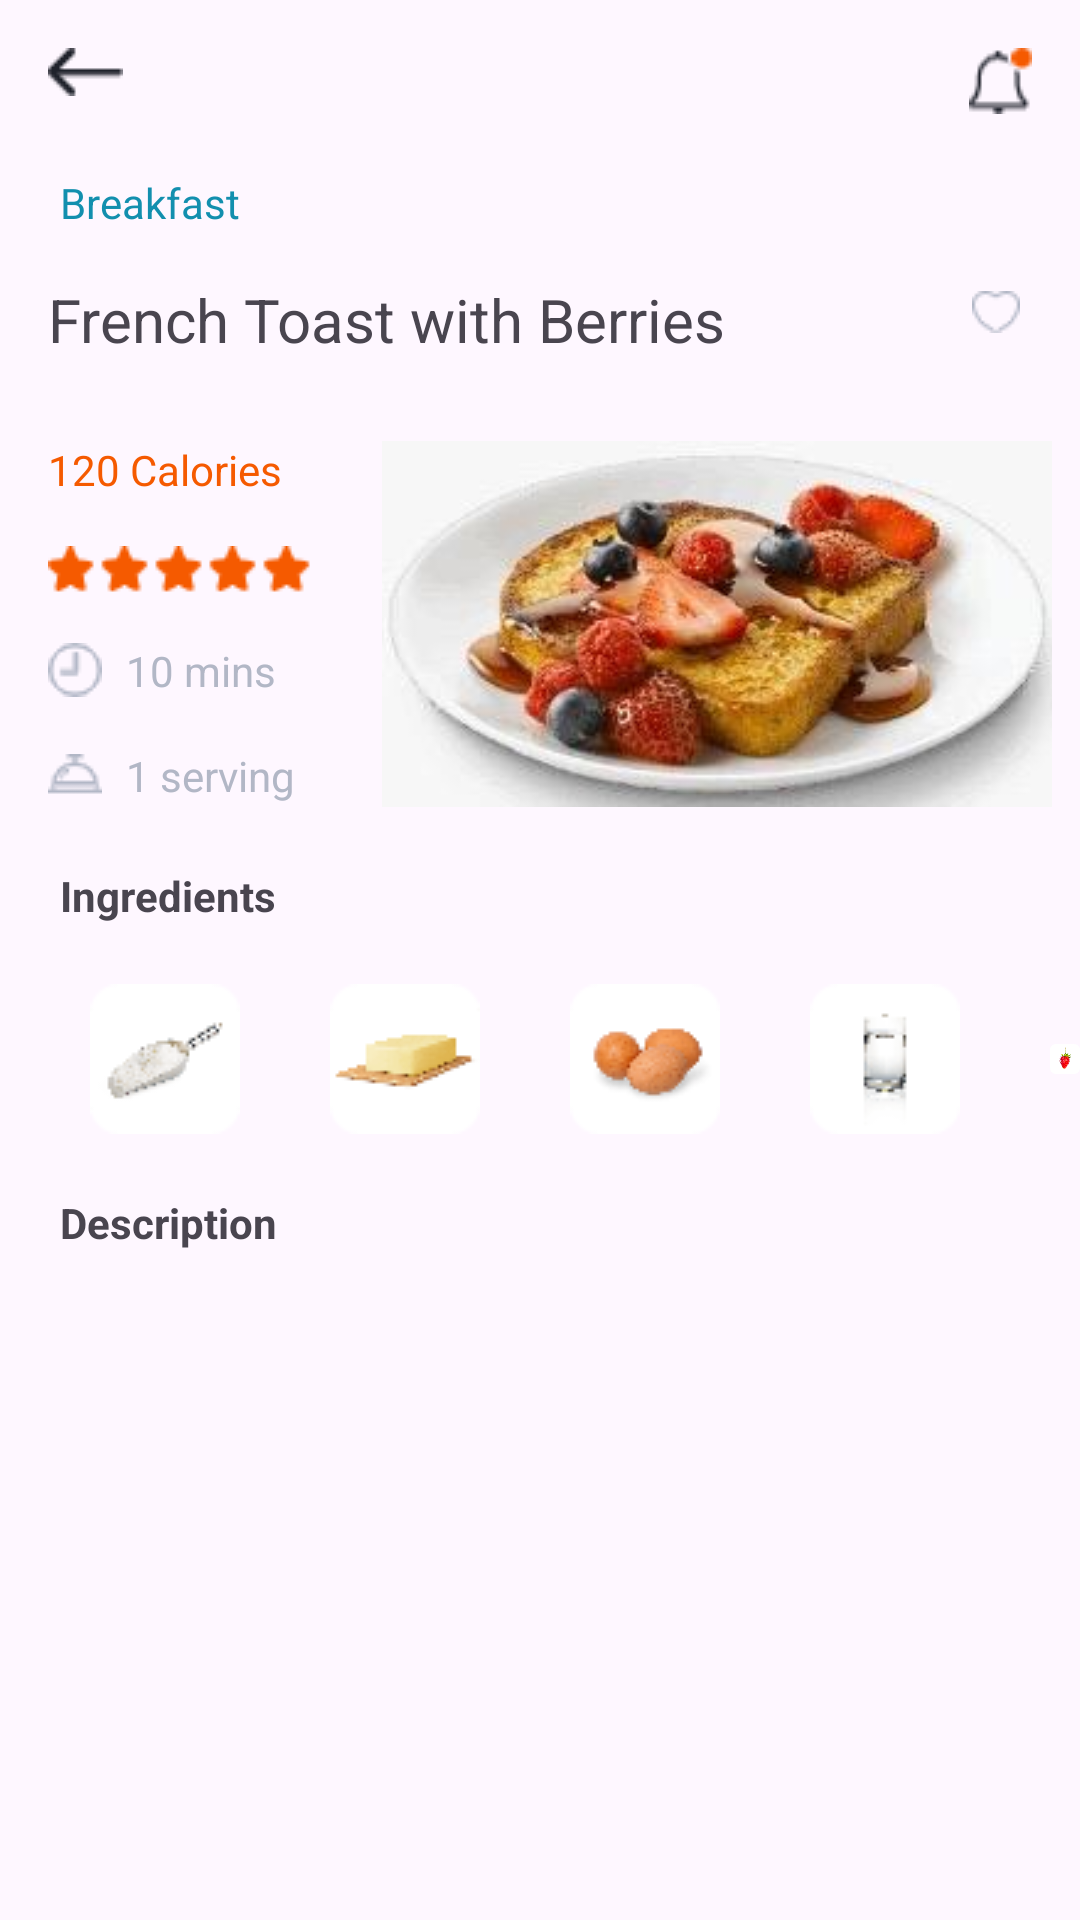

Icon click points for this 1080 x 1920 phone screenshot, format (x,y):
back: (85,72)
butter: (404,1060)
eggs: (648,1062)
flour: (165,1060)
like: (996,312)
notifications: (1000,81)
ratings: (179,569)
water: (885,1055)
